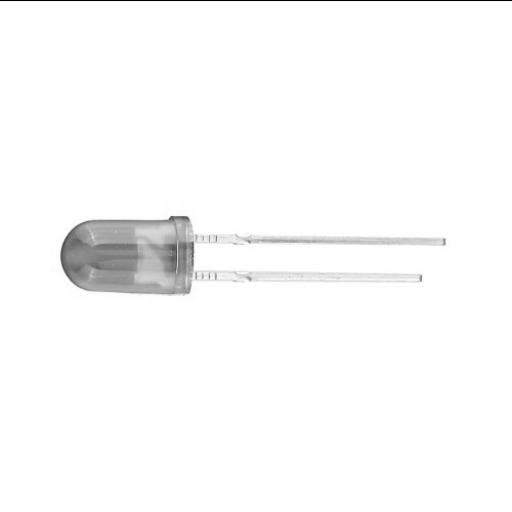LED: (60, 214, 446, 296)
